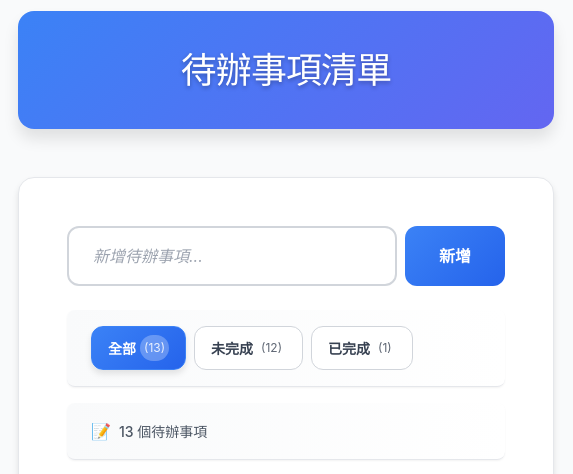
End-to-End User Flows Integration Tests › Accessibility and Keyboard Navigation › should support full keyboard navigation workflow
The width and height of the screenshot is (573, 474).
Type "鍵盤導航測試" into the field at (232, 256), box [67,226,397,286]
Press Enter
(page scrolled)
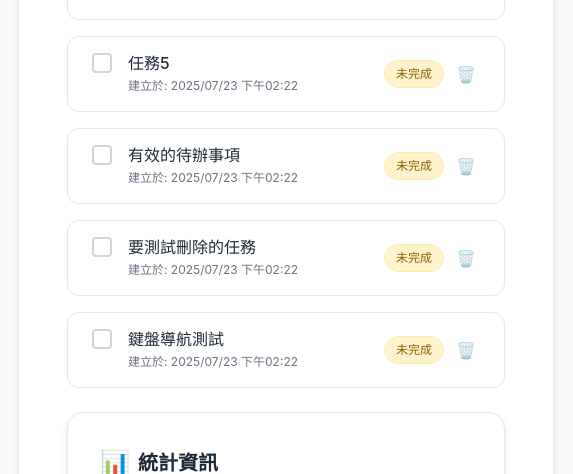
expect the text "鍵盤導航測試" is shown: met
Note: Edit using keyboard
Double-click the text "鍵盤導航測試" at (176, 339), box [128,329,224,349]
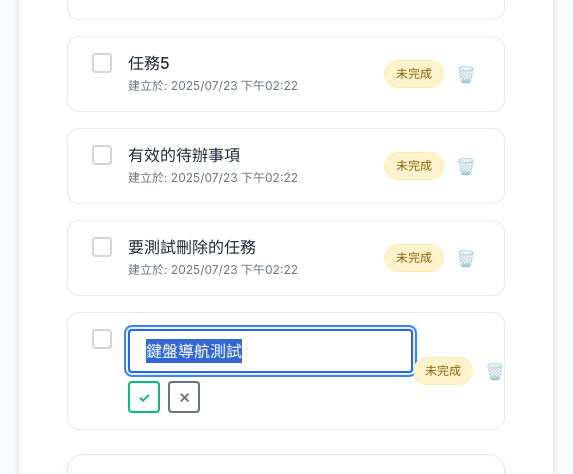
Replace the text in the field showing "鍵盤導航測試" with "編輯後的標題" at (270, 351), box [128,329,413,373]
Press Enter
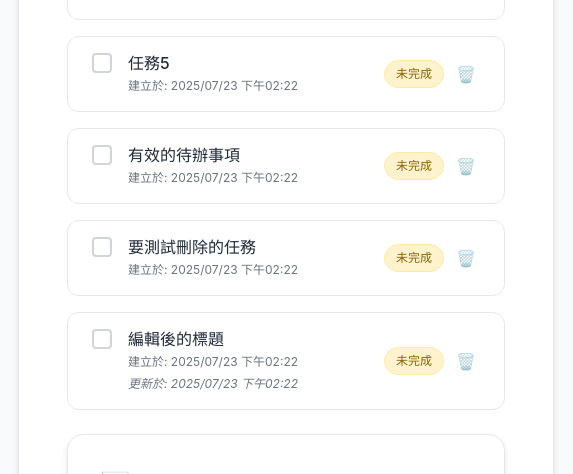
expect the text "編輯後的標題" is shown: met
Note: Test Escape key cancellation
Double-click the text "編輯後的標題" at (176, 339), box [128,329,224,349]
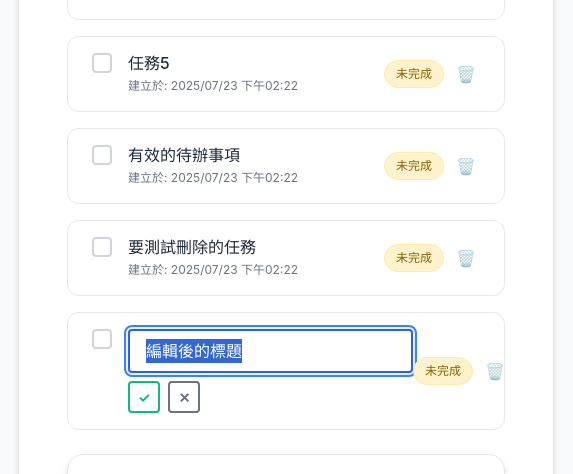
Replace the text in the field showing "編輯後的標題" with "不會保存的修改" at (270, 351), box [128,329,413,373]
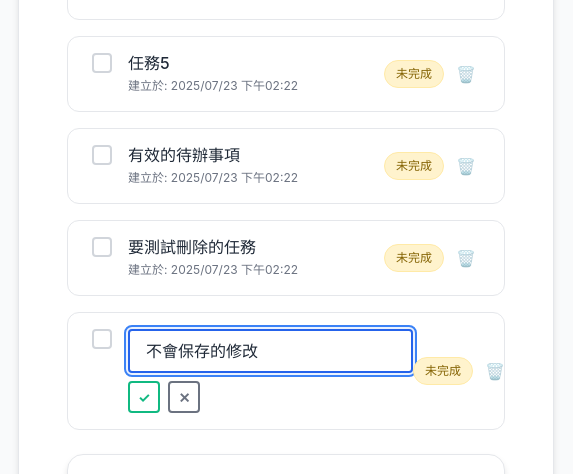
Press Escape
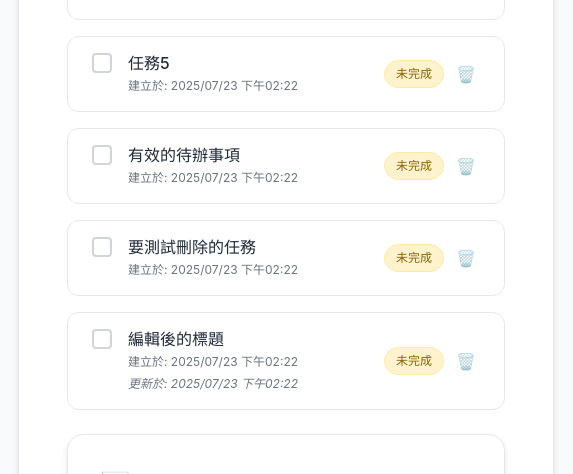
expect the text "不會保存的修改" is not shown: met
expect the text "編輯後的標題" is shown: met, box [128,329,224,349]
